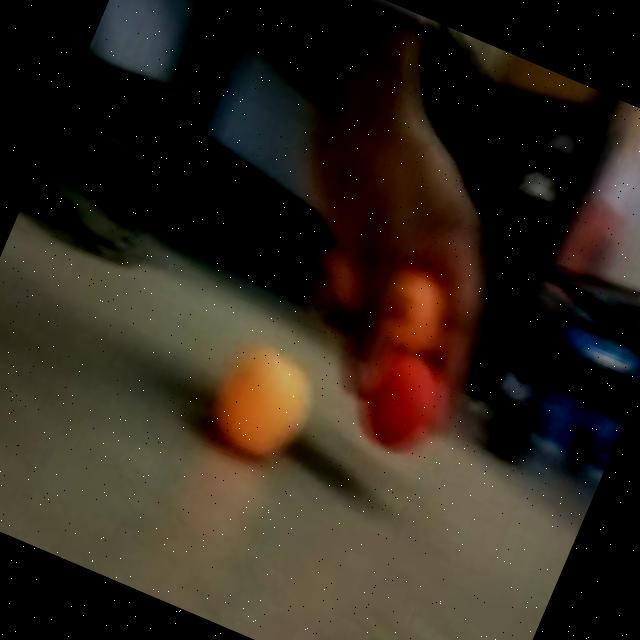ping-pong-ball: (196, 330, 331, 467), (353, 339, 462, 461)
